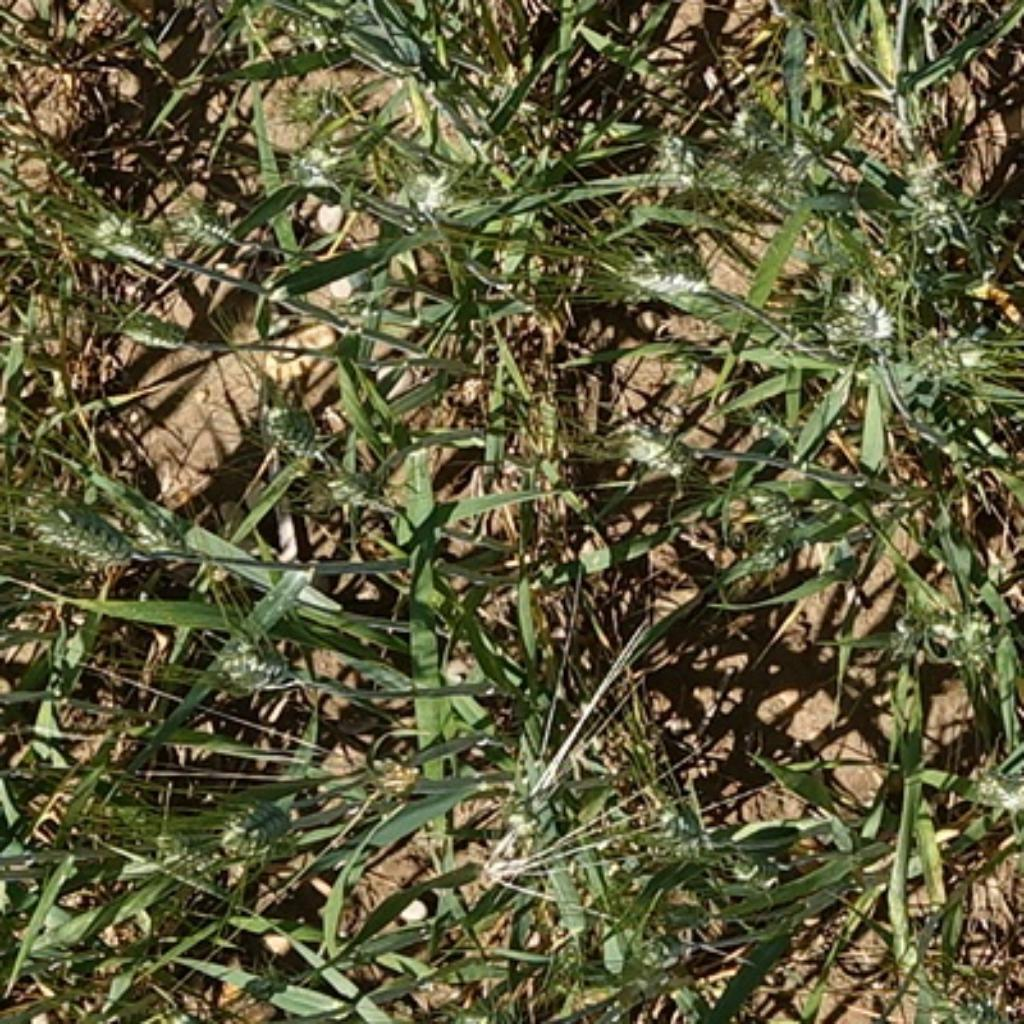0-0: (902, 576, 1016, 675), (16, 494, 143, 566), (604, 399, 704, 488), (296, 442, 407, 522), (599, 236, 721, 307), (890, 138, 972, 243), (901, 309, 1000, 389), (622, 792, 713, 872), (71, 192, 168, 266), (212, 783, 302, 862), (199, 619, 294, 693), (811, 273, 898, 350), (163, 184, 253, 258), (791, 207, 875, 276), (253, 378, 327, 455), (284, 125, 355, 197), (110, 302, 194, 360), (719, 394, 806, 450), (645, 117, 709, 189), (615, 928, 696, 979), (962, 747, 1024, 811), (721, 153, 778, 217), (744, 481, 808, 535), (407, 163, 455, 230), (727, 540, 796, 586), (775, 125, 826, 184), (716, 99, 768, 151), (657, 304, 721, 340), (785, 0, 847, 5)
